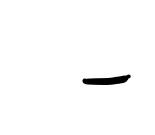minus: (82, 75, 132, 86)
